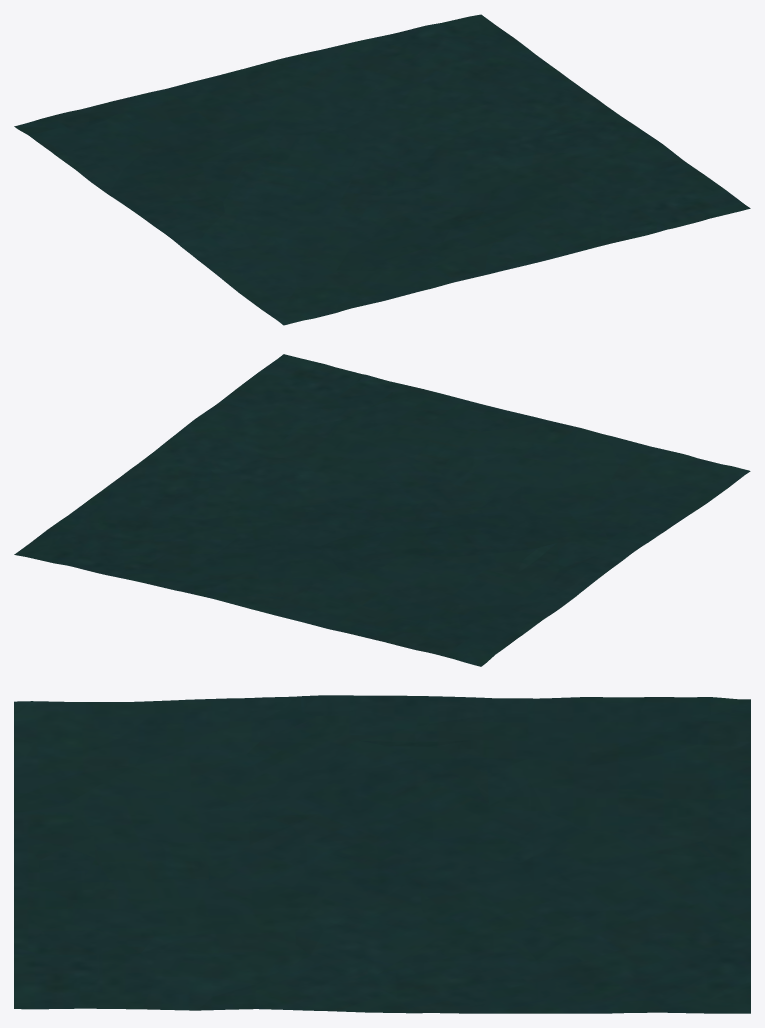
The picture shows the model from 3 angles, top to bottom: view 1: azimuth 30°, elevation 25°; view 2: azimuth 150°, elevation 25°; view 3: azimuth 270°, elevation 25°; orthographic projection. The views are drawn at different scales.
Size of the model in its own units: 52.22 by 0.8592 by 52.22.
Materials: 2 (2 with a texture image).
